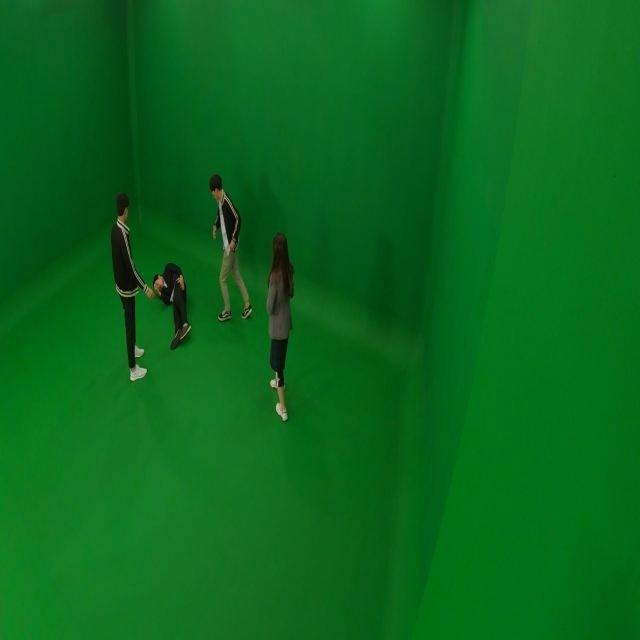fight: (153, 172, 253, 342)
non-fight: (110, 192, 151, 384), (258, 233, 296, 422)
